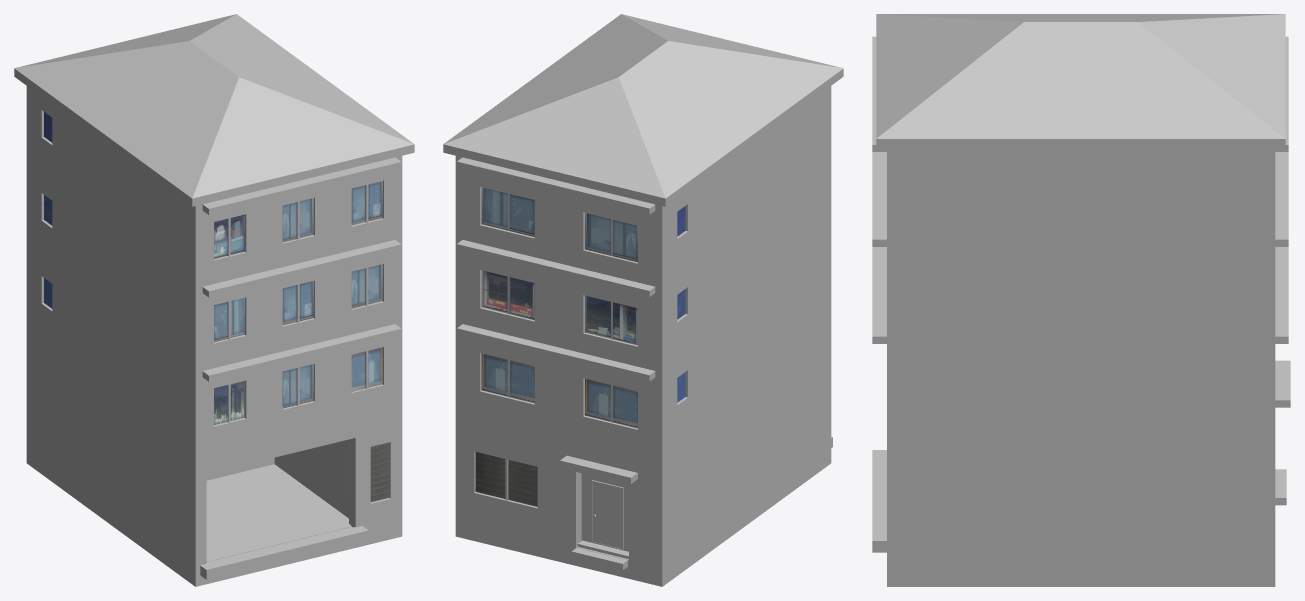
The model's file is bldg_mall_22c.fbx.
The picture shows the model from 3 angles, left to right: view 1: azimuth 30°, elevation 25°; view 2: azimuth 150°, elevation 25°; view 3: azimuth 270°, elevation 25°; orthographic projection. The views are drawn at different scales.
Visible parts, largest first — view 1: bldg_mall_22c; view 2: bldg_mall_22c; view 3: bldg_mall_22c.
Part boxes in pixels (bbox=[...]): bldg_mall_22c: bbox=[14, 14, 414, 586]; bldg_mall_22c: bbox=[443, 14, 843, 586]; bldg_mall_22c: bbox=[872, 14, 1290, 586].
Bounding box in the file's own units: 7.62 × 14.43 × 10.8.
